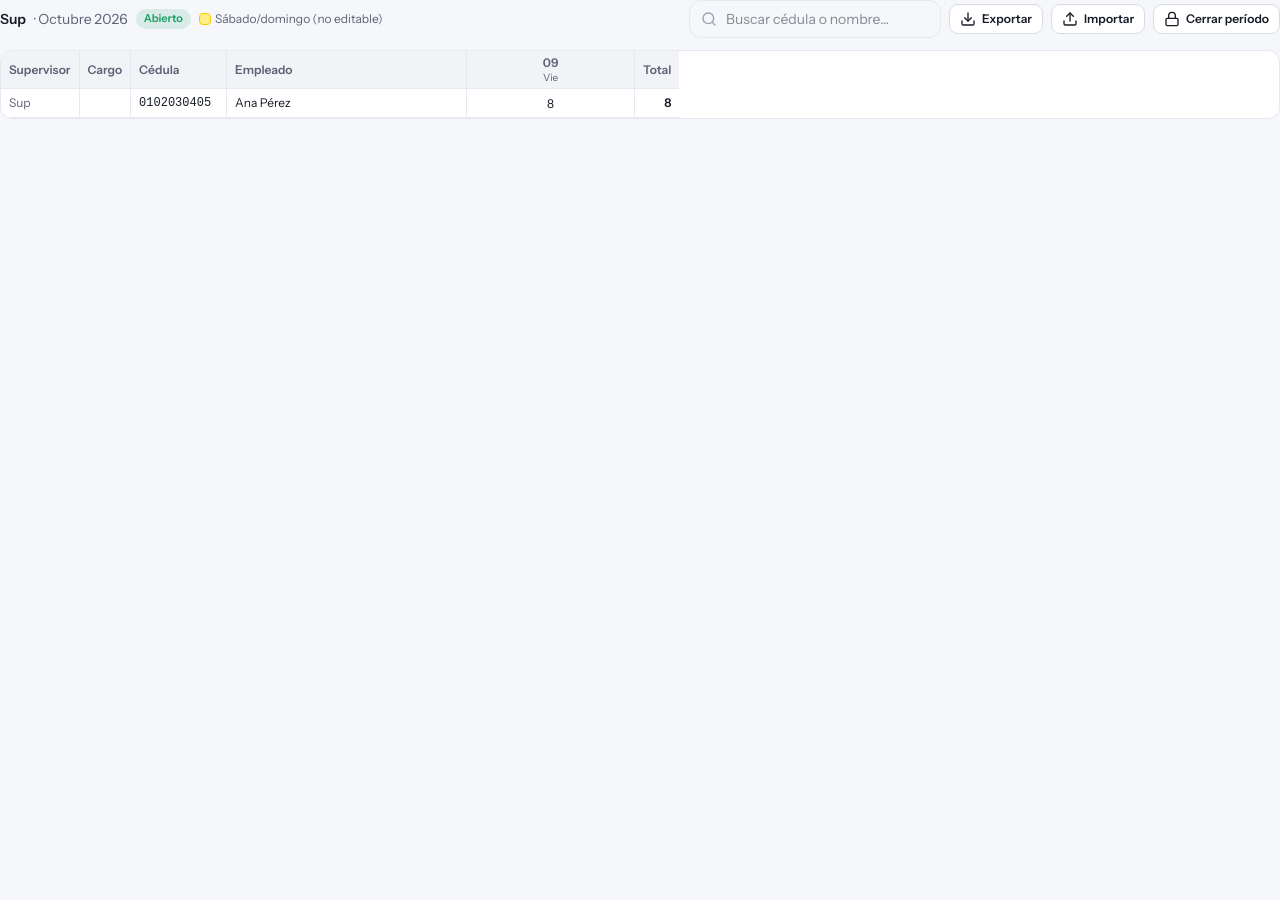
Días laborados — acciones del Administrador › corregir cédula: un rechazo del servidor se muestra y no se presenta como guardado
Step 1. Click the button named "Corregir cédula de Ana Pérez" → (175, 103), box [139,95,211,111]
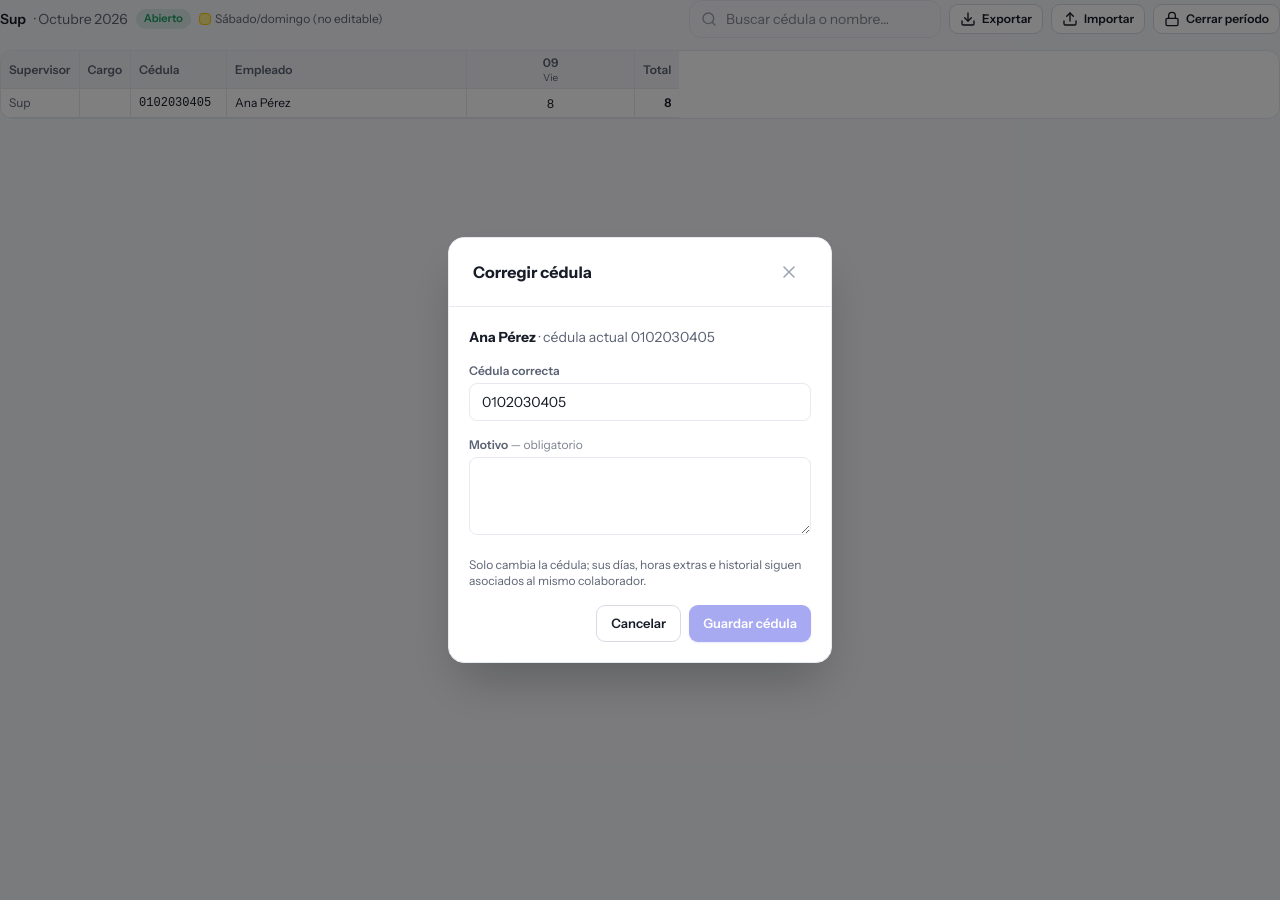
Step 2. Replace the text in the field labelled "Cédula correcta" with "0999999999" → (640, 402), box [469,383,811,421]
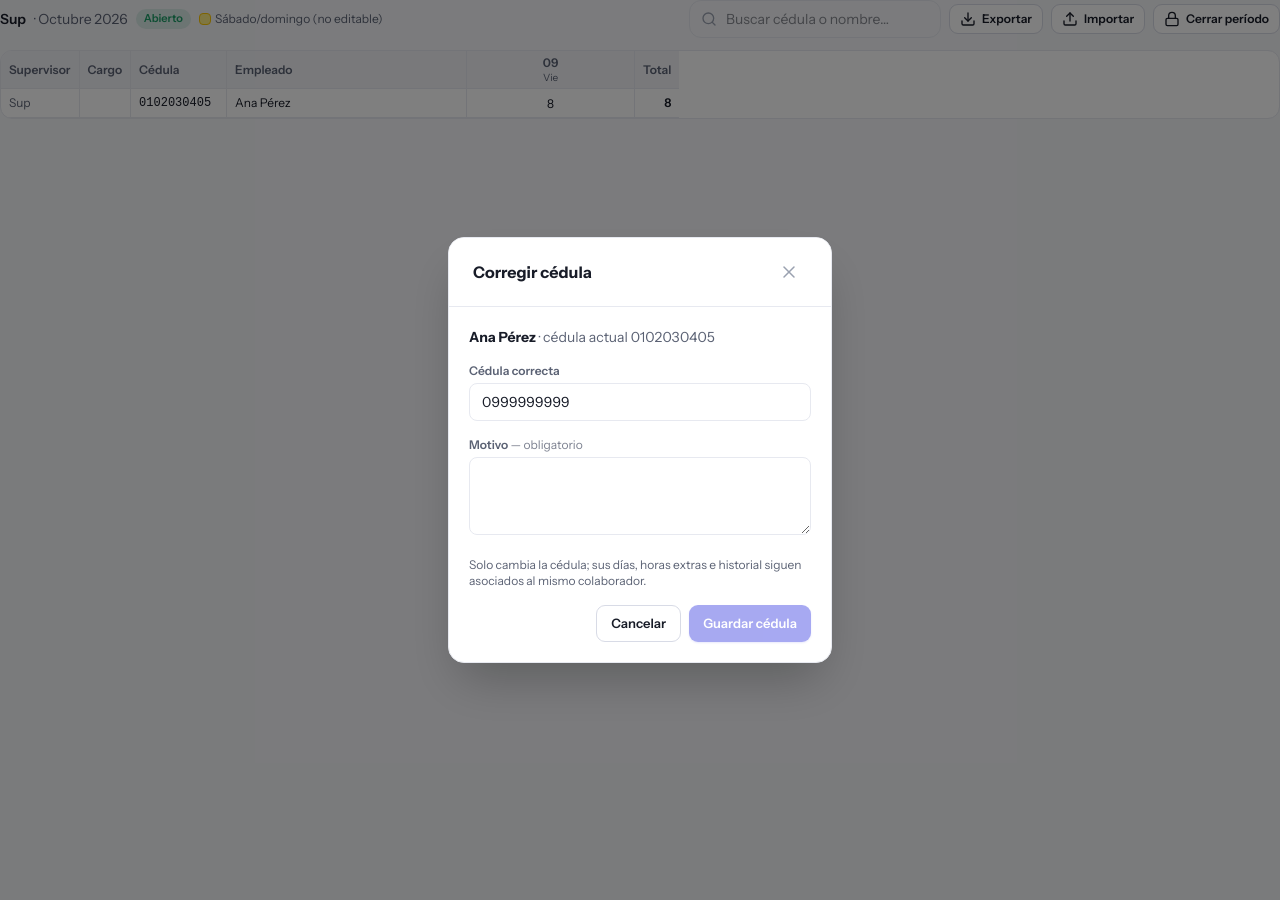
Step 3. Type "Digitación" into the text box labelled "Motivo — obligatorio" → (640, 496), box [469,457,811,535]
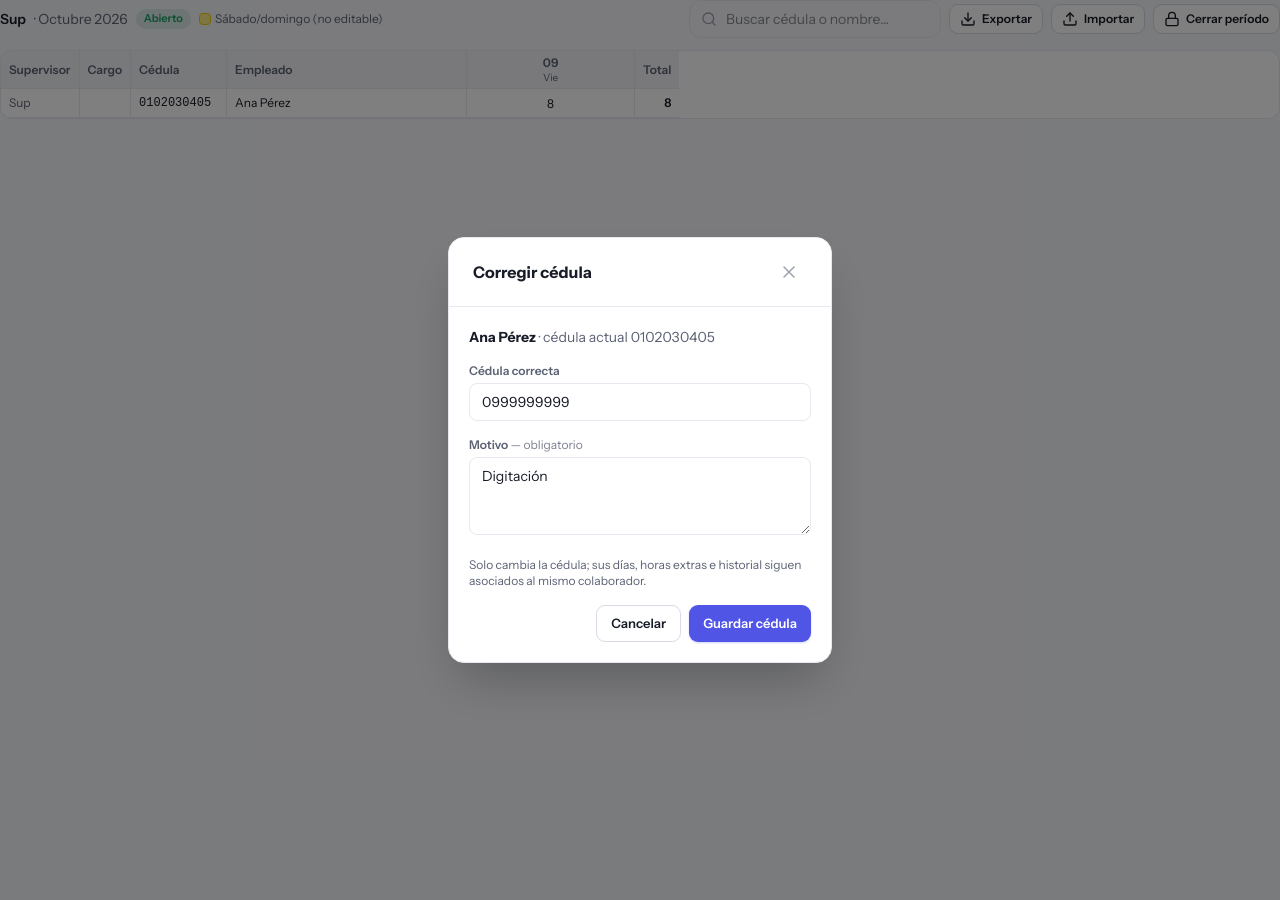
Step 4. Click the button "Guardar cédula" → (750, 624), box [689,605,811,642]
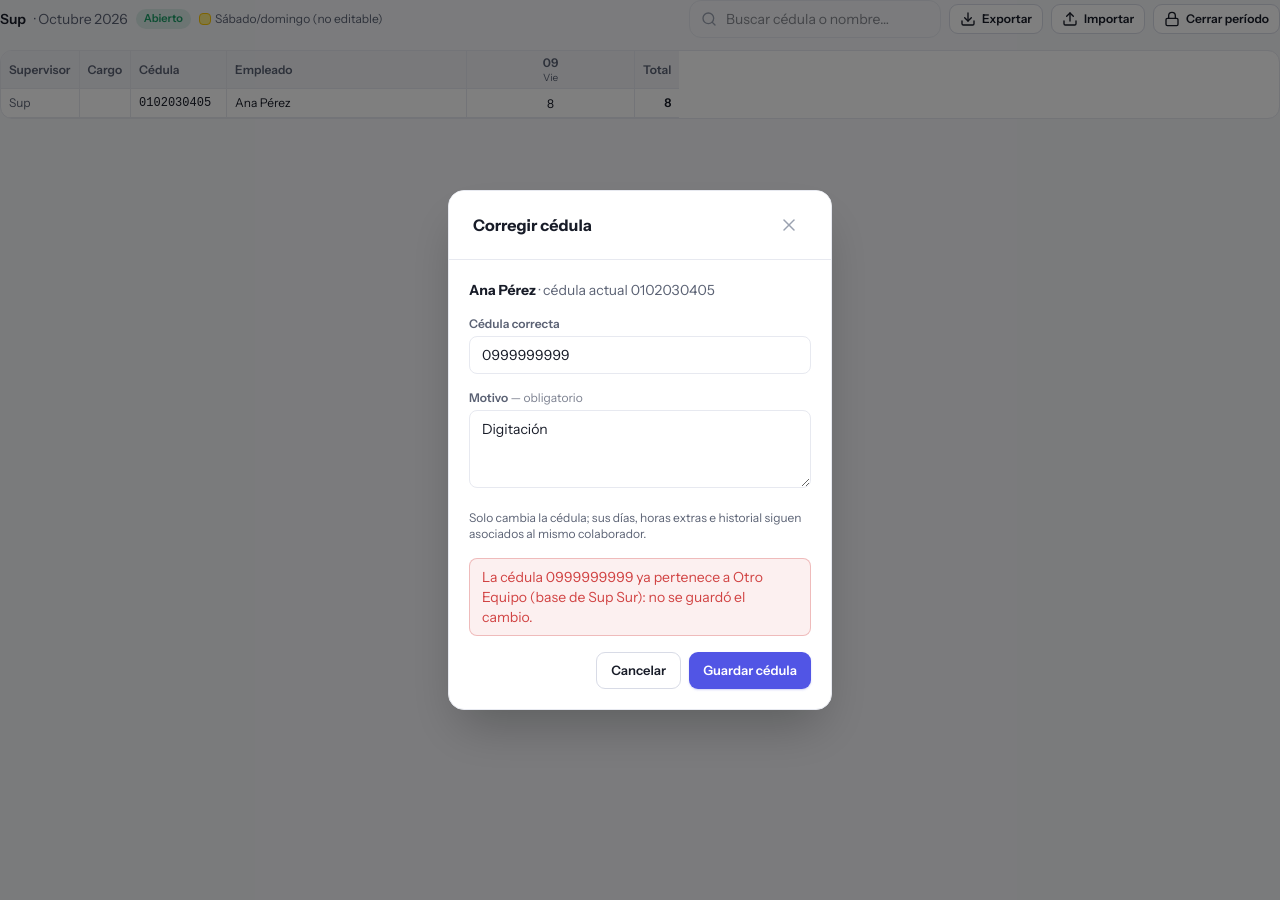
Check: the text "ya pertenece a Otro Equipo" is shown, box [482,568,763,626]
